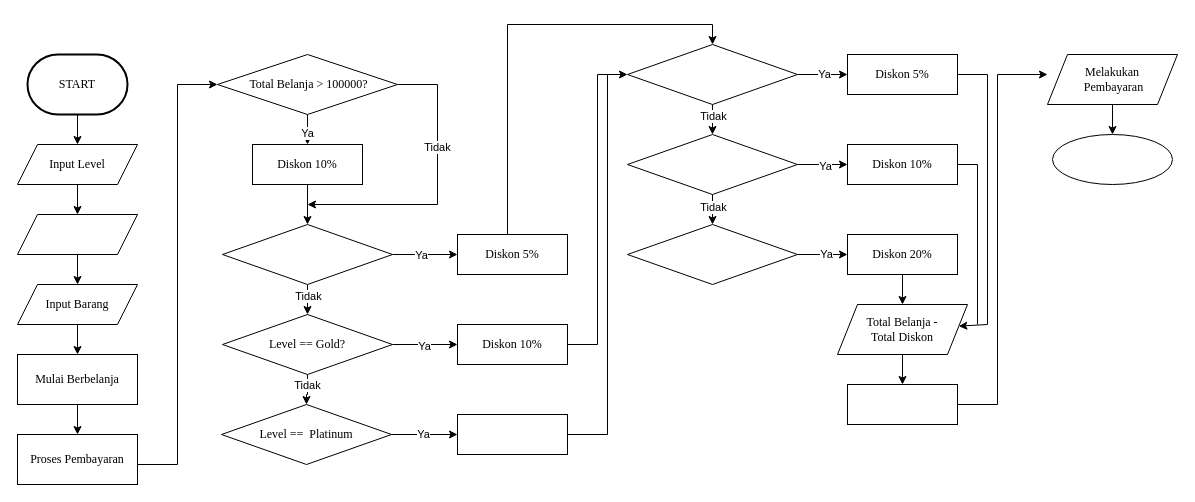
Some shapes in this 1195 by 502 pixel diagram are drawn without their labels. The shapes that lost their labels are listed below. From the top down, each one's box as (x1, y1, x2, y2) in pixels, then its label:
(626, 44, 798, 104): Kategori == ATK?
(626, 134, 798, 194): Kategori == Electronic?
(1052, 134, 1172, 184): END
(16, 214, 138, 254): Input Kategori
(222, 224, 392, 284): Level == Silver?
(626, 224, 798, 284): Kategori == Sembako?
(846, 384, 958, 424): Total Harga
(456, 414, 568, 454): Diskon 15%
